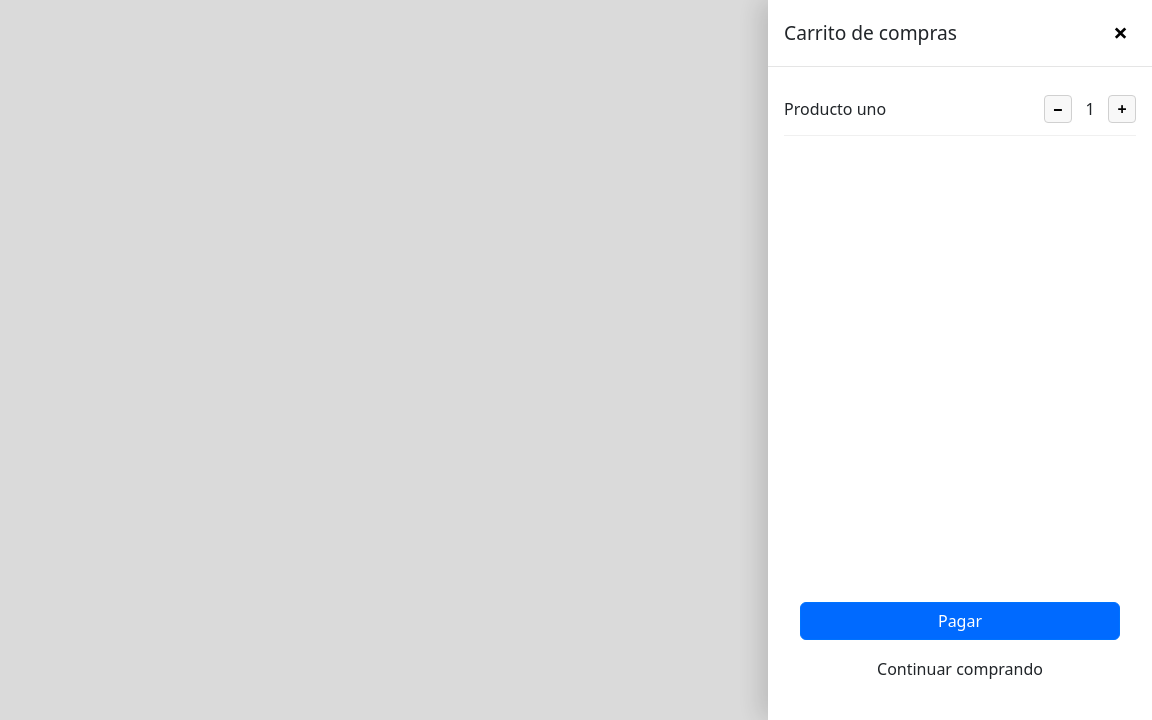
Scenario: ShoppingCartComponent › el botón agregar incrementa la cantidad del producto
This screenshot has width=1152, height=720.
Click the button named "Agregar Producto uno" at (1122, 109), box [1108, 95, 1136, 123]
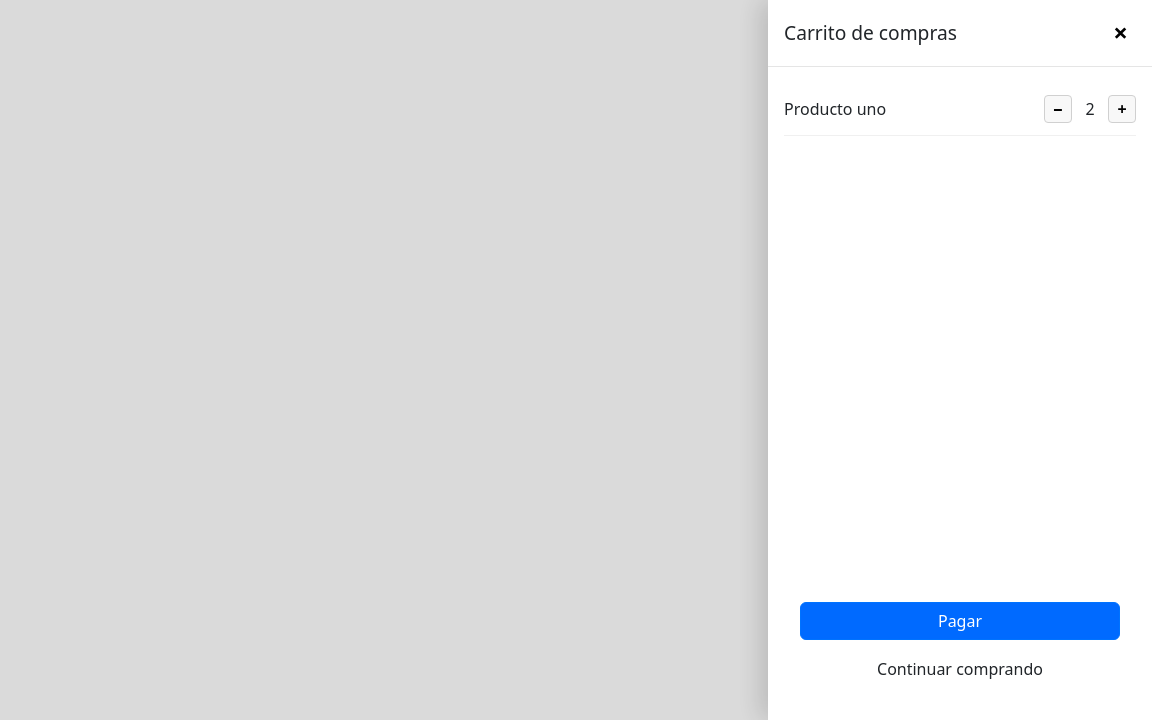
Check: the text named "Cantidad de Producto uno" reads "2", box [1085, 98, 1095, 120]
